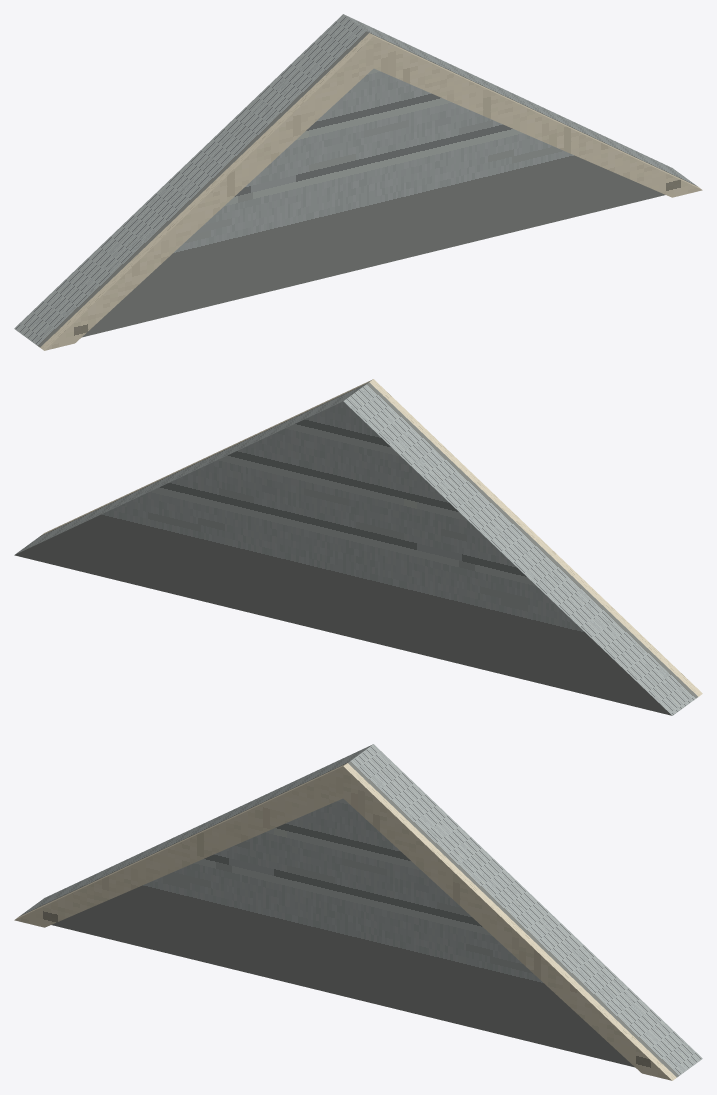
Rendered from house_02_gable.glb.
The picture shows the model from 3 angles, top to bottom: view 1: azimuth 30°, elevation 25°; view 2: azimuth 150°, elevation 25°; view 3: azimuth 330°, elevation 25°; orthographic projection.
Visible parts, largest first — view 1: house_02_gable; view 2: house_02_gable; view 3: house_02_gable.
Part boxes in pixels (x1,y1,x2,y2): house_02_gable: (14,14,702,350); house_02_gable: (14,379,702,715); house_02_gable: (14,744,702,1080).
Bounding box in the file's own units: 3 × 1.02 × 0.24.
2 materials, 2 textured.
